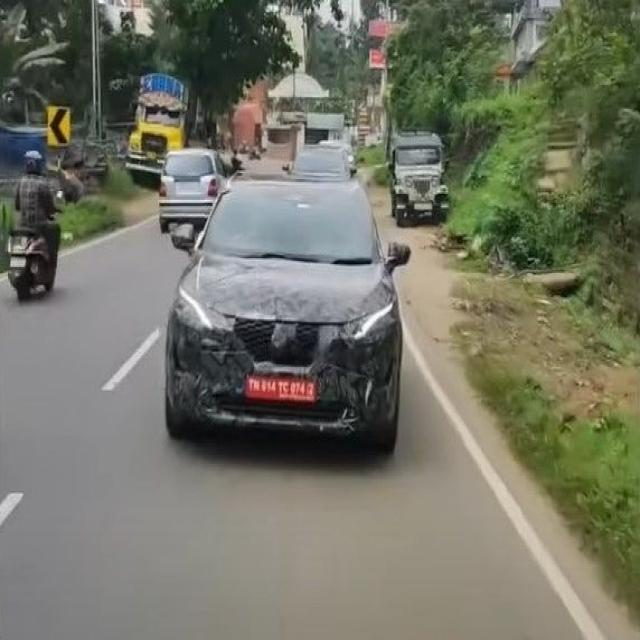car: (166, 183, 409, 447)
motorcycle: (9, 150, 60, 299)
